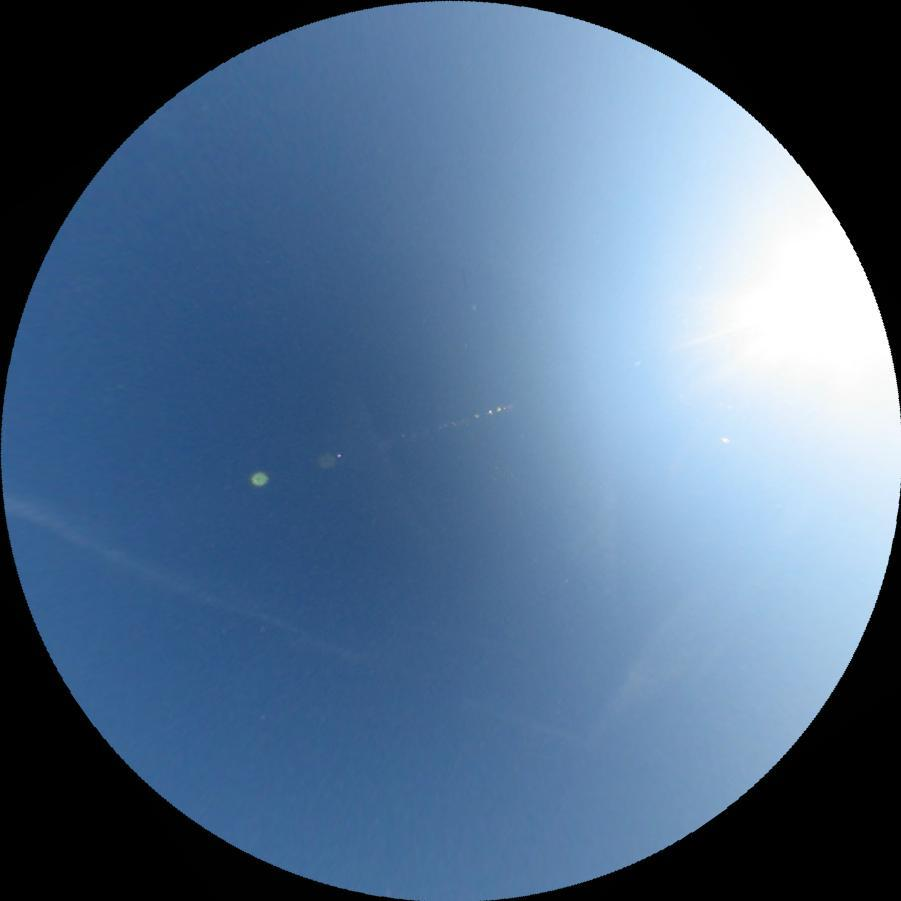contrail veryold: (0, 493, 353, 667)
parasite: (672, 322, 742, 350)
sun: (713, 206, 897, 427)
